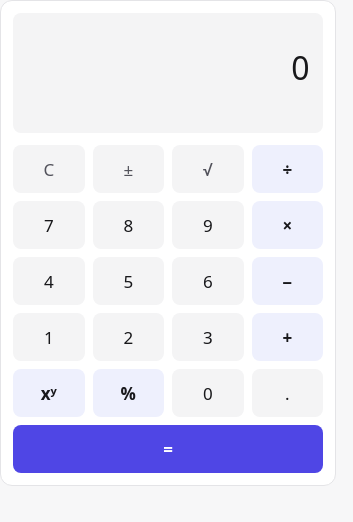
Test: Calculator › announces a readable message in the alert region when the API rejects the operation
Click the button named "One": (49, 337) [13, 313, 84, 361]
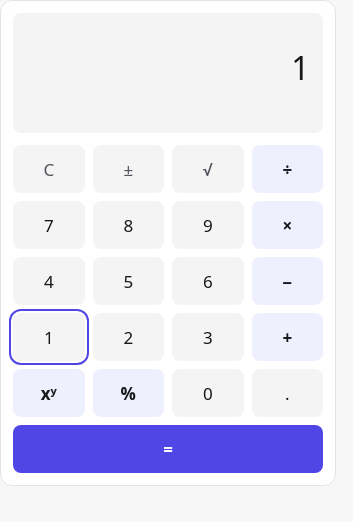
Click the button named "Divide": (287, 169) [252, 145, 323, 193]
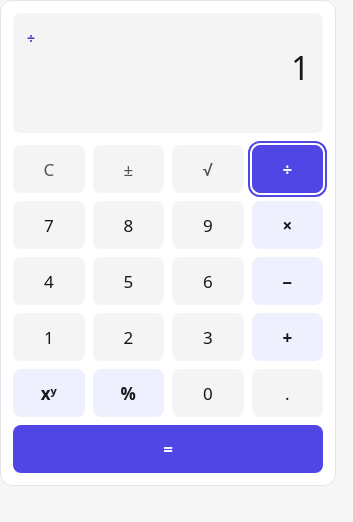
Click the button named "Zero": (208, 393) [172, 369, 244, 417]
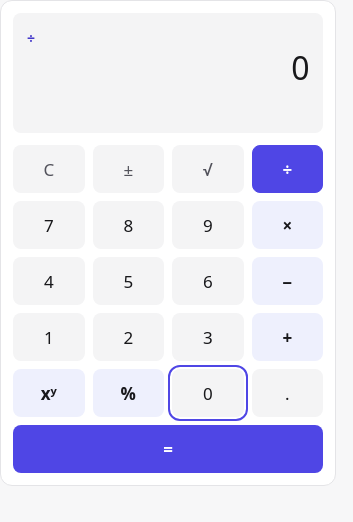
Click the button named "Equals": (168, 449) [13, 425, 323, 473]
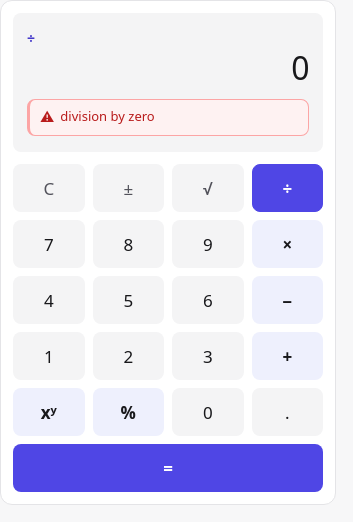
Expected: the message shows "division by zero", [60, 107, 155, 125]
